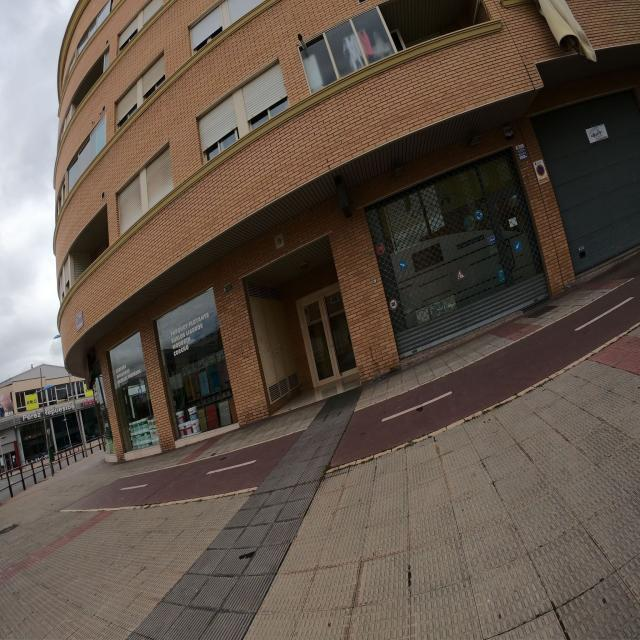forb_stopping: (537, 165, 545, 176)
